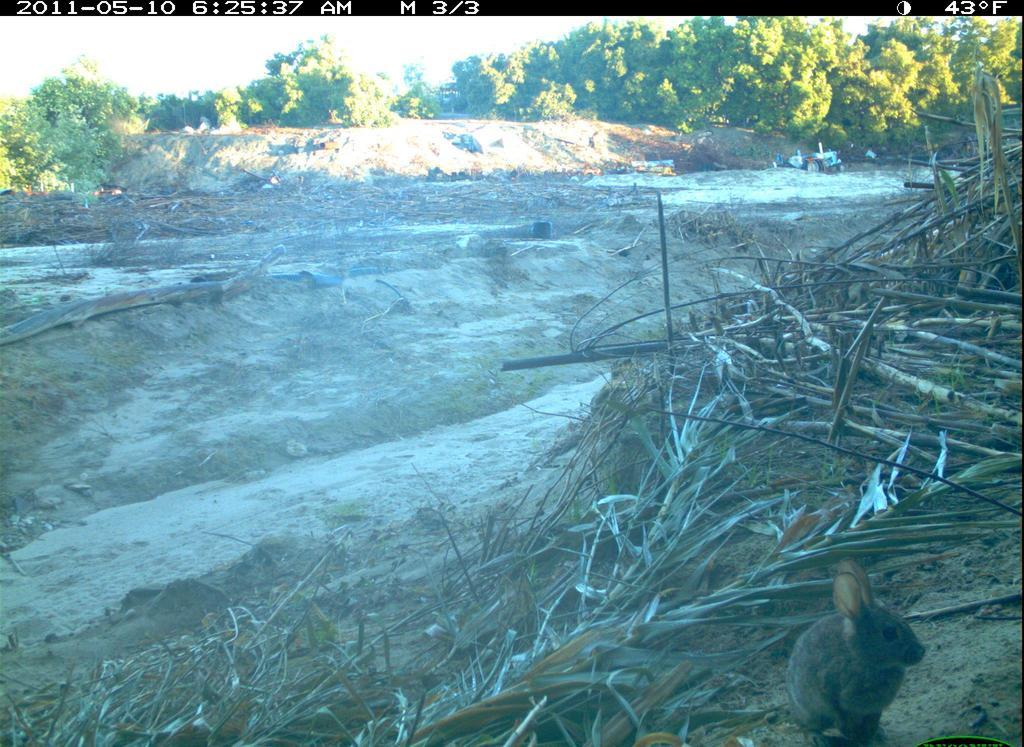rabbit: (771, 545, 932, 747)
